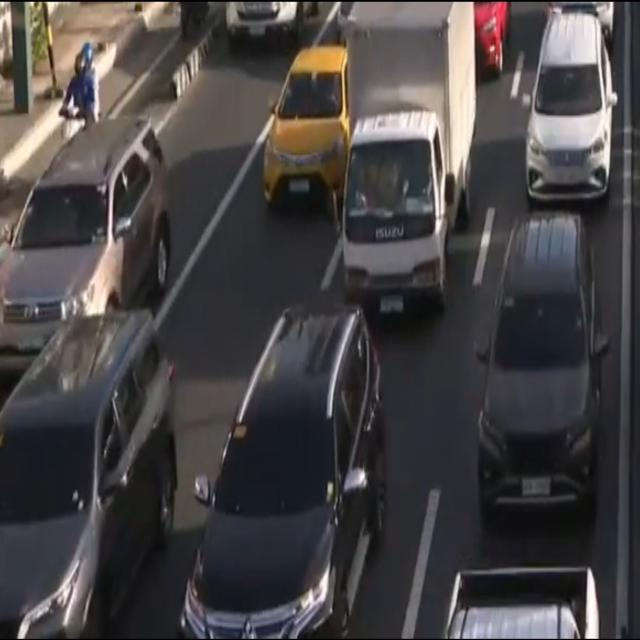Motorcycle: (62, 48, 103, 140)
SUV: (178, 308, 389, 640), (0, 119, 174, 371), (476, 222, 610, 541), (524, 13, 620, 196)
Sedan: (262, 41, 355, 220)
Truck: (340, 0, 488, 301)
Van: (0, 317, 177, 640)
